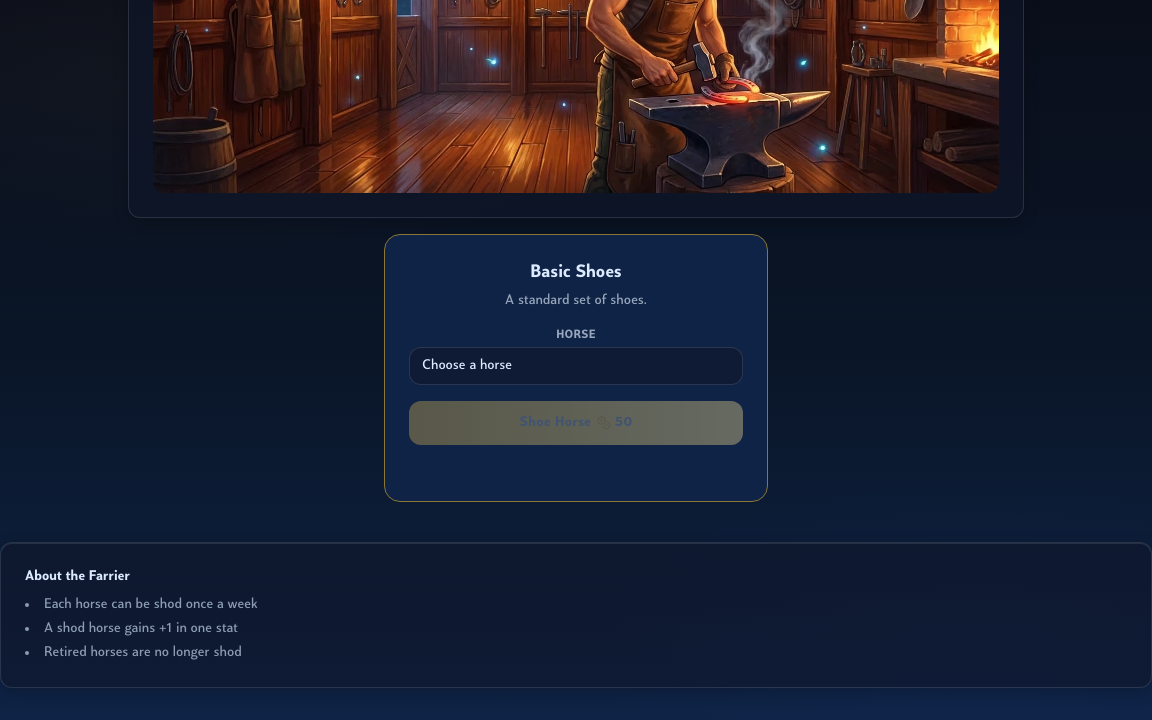
Test case: FarrierPage (Equoria-zz14s) › keeps the button disabled until a horse is chosen, then shows the success message
(page scrolled)
Expected: the button "Shoe Horse 50" is disabled, [409,401,743,445]
Select "Starlight" in the dropdown at (576, 366), box [409,347,743,385]
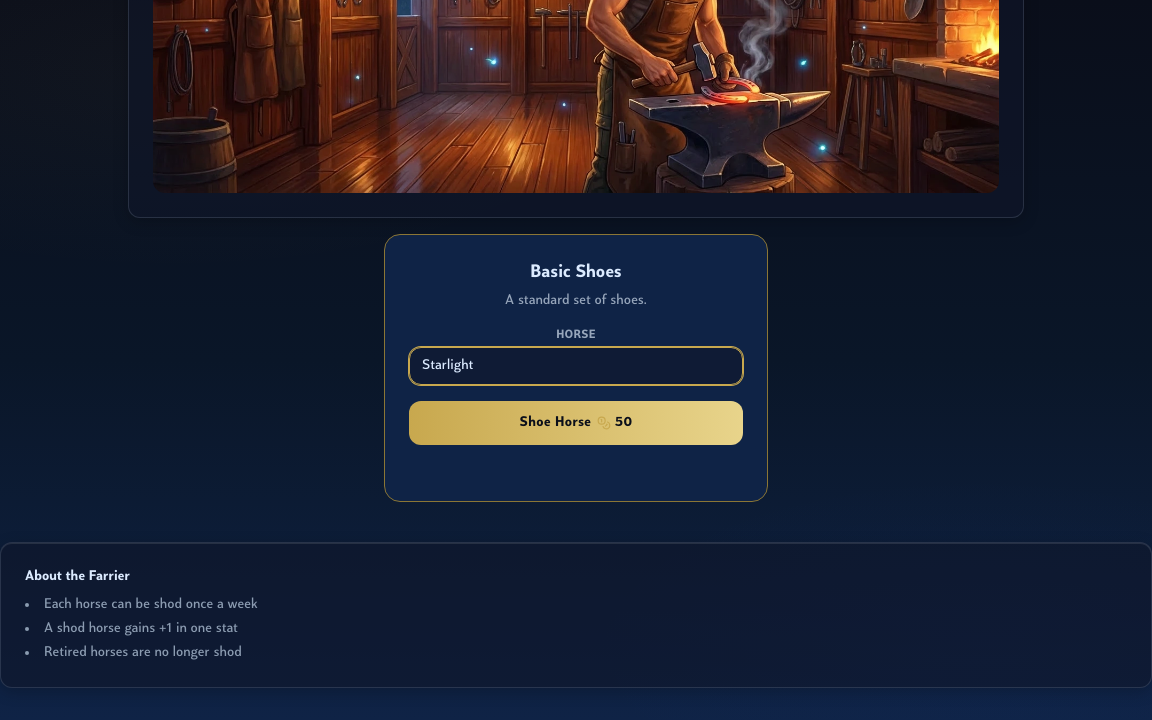
Click the button "Shoe Horse 50".
click(576, 423)  # box [409,401,743,445]
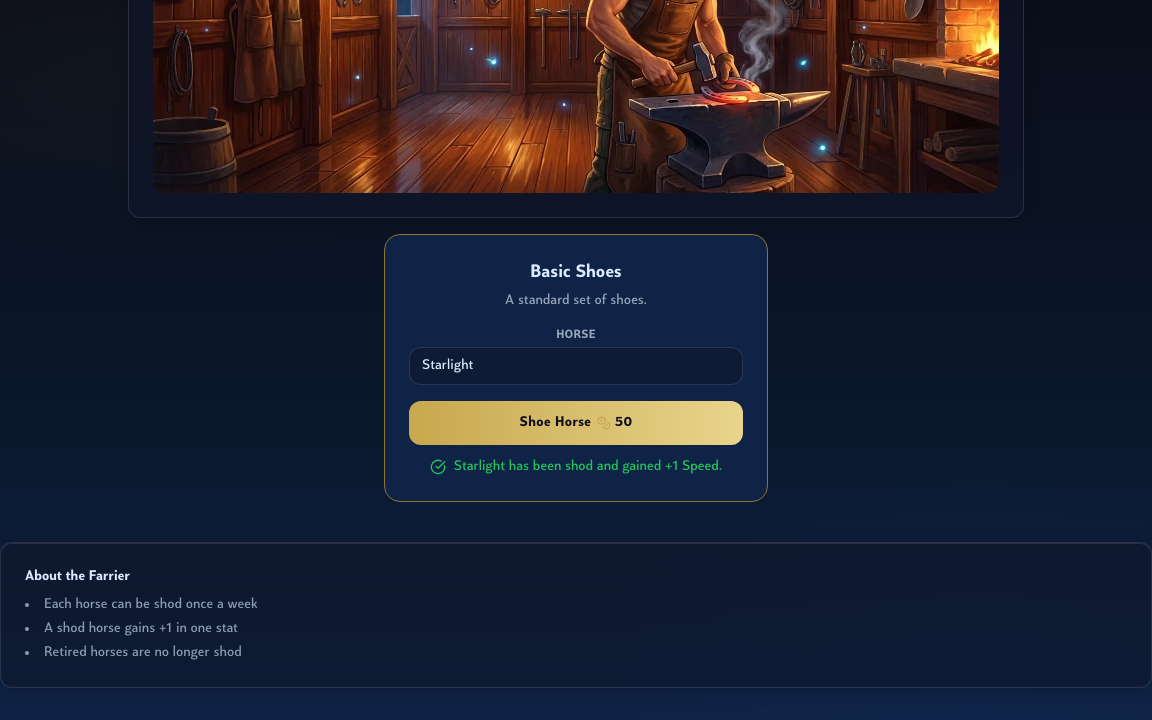
Now the text "Starlight has been shod and gained +1 Speed." is shown, box [409,457,743,477]
